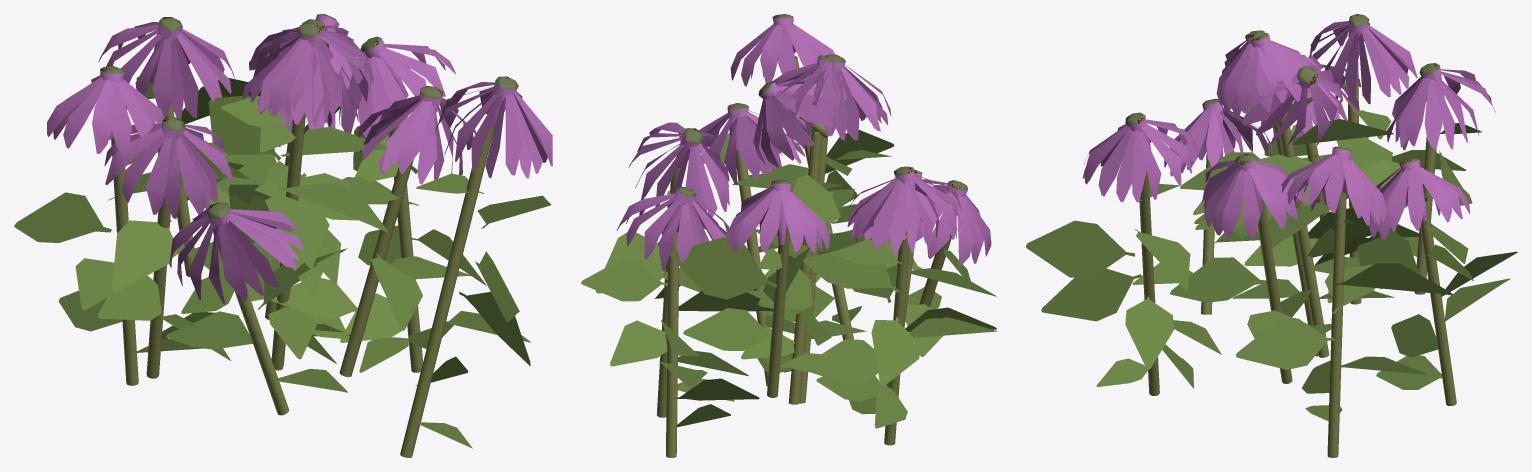
Rendered from echinacea.fbx.
3 renders of one model, left to right at view 1: azimuth 30°, elevation 25°; view 2: azimuth 150°, elevation 25°; view 3: azimuth 270°, elevation 25°, orthographic. The views are drawn at different scales.
Parts seen in each view (by area): view 1: BézierCurve.008; view 2: BézierCurve.008; view 3: BézierCurve.008.
Part boxes in pixels (left/top/right/bottom): BézierCurve.008: left=14, top=14, right=552, bottom=457; BézierCurve.008: left=581, top=14, right=997, bottom=457; BézierCurve.008: left=1026, top=14, right=1517, bottom=457.
Bounding box in the file's own units: 93.14 × 90.7 × 112.
4 materials, 1 textured.
